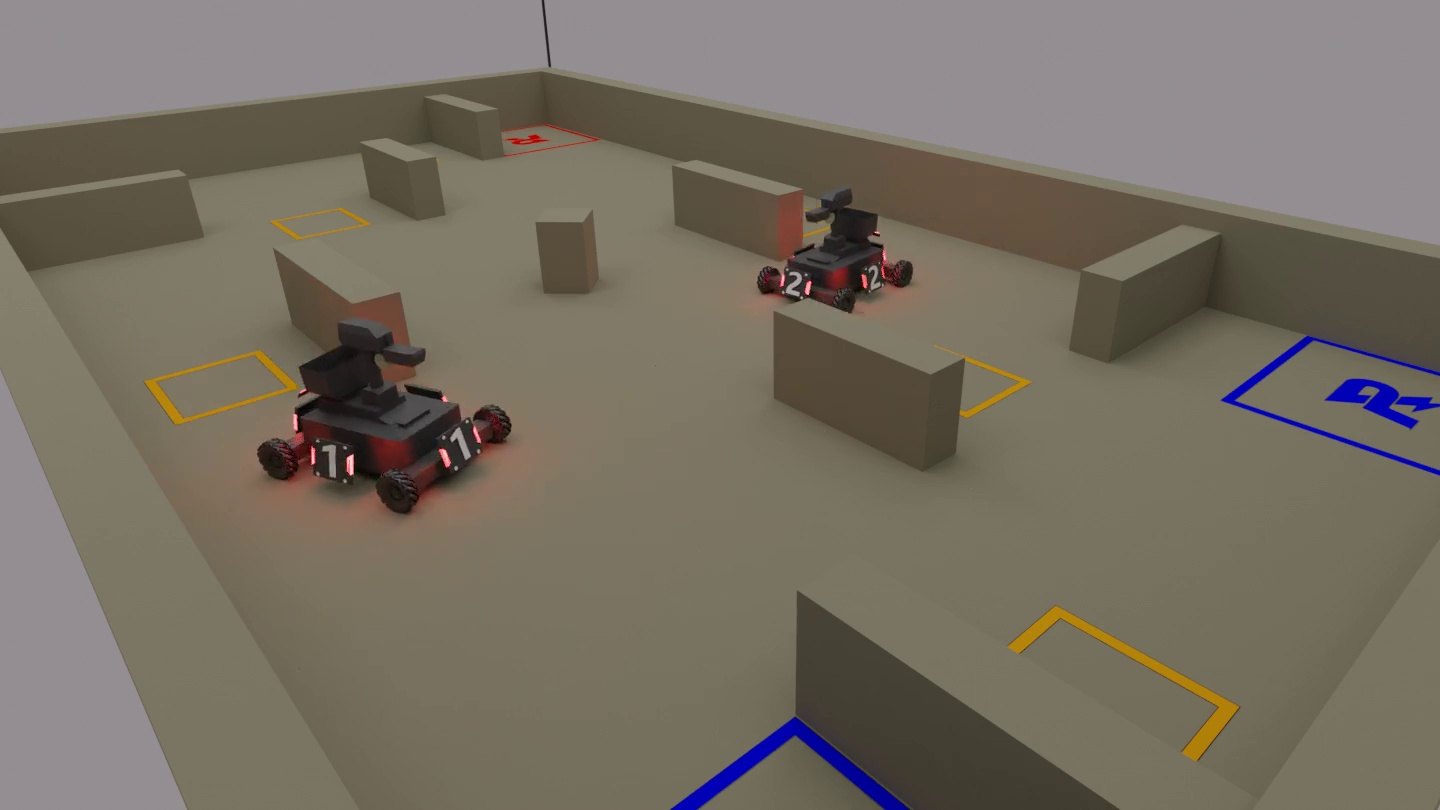Bot 1: (263, 313, 524, 529)
Bot 2: (758, 193, 921, 314)
